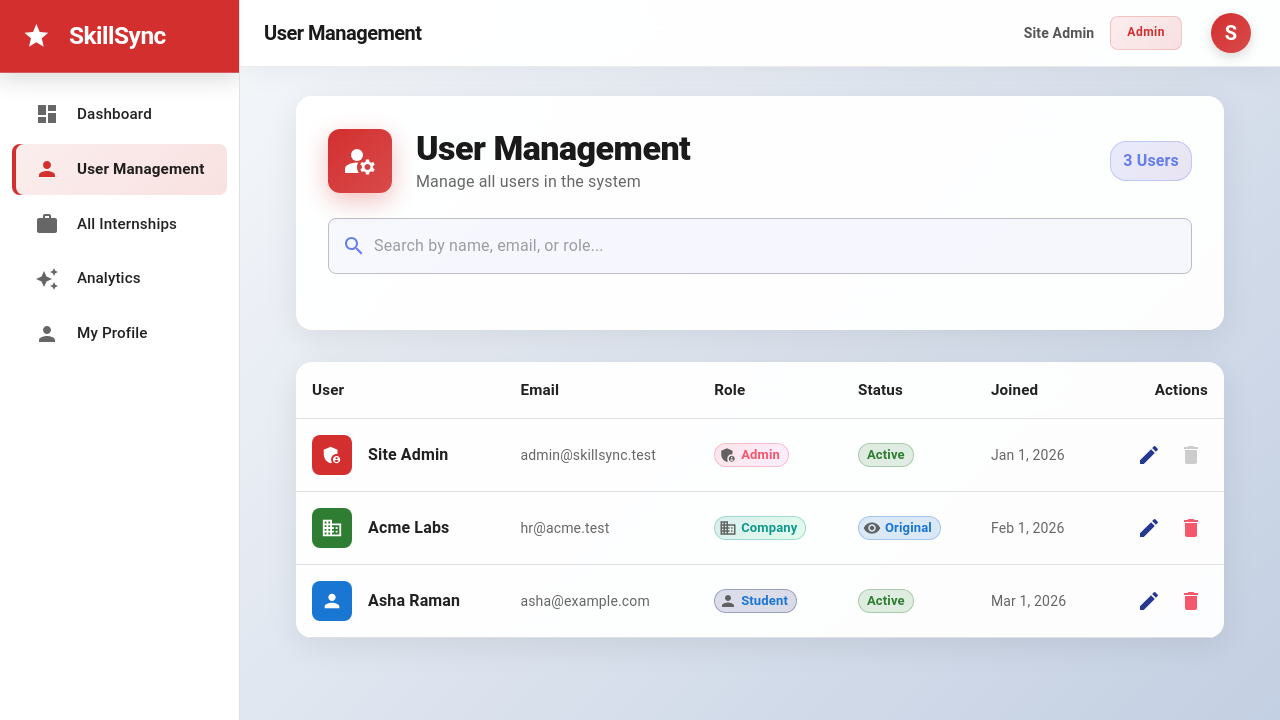
Test: turning on anonymization for a company sends it with the update
Expected: the text "Acme Labs" is shown, x1=368 y1=516 x2=450 y2=540
Click the button named "Edit User" in the row of "Acme Labs".
click(1149, 528)  # box x1=1132 y1=511 x2=1166 y2=545
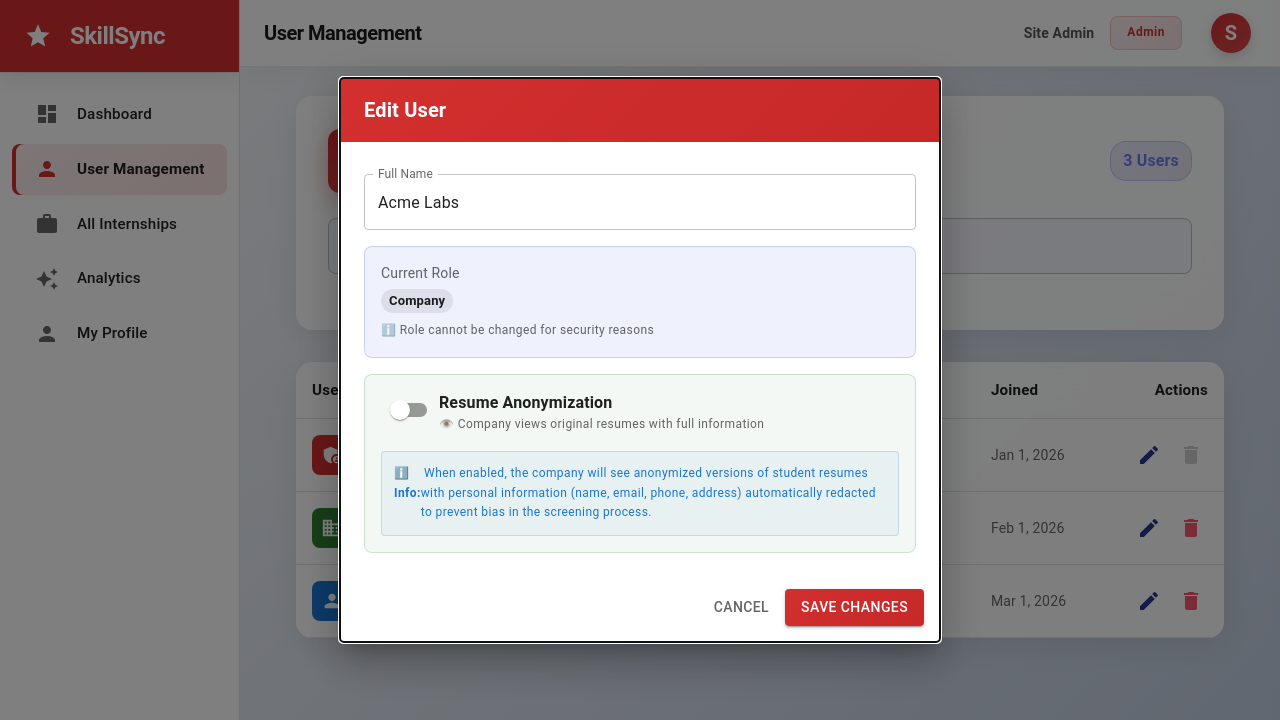
Click the switch.
click(577, 412)  # box x1=390 y1=393 x2=764 y2=431
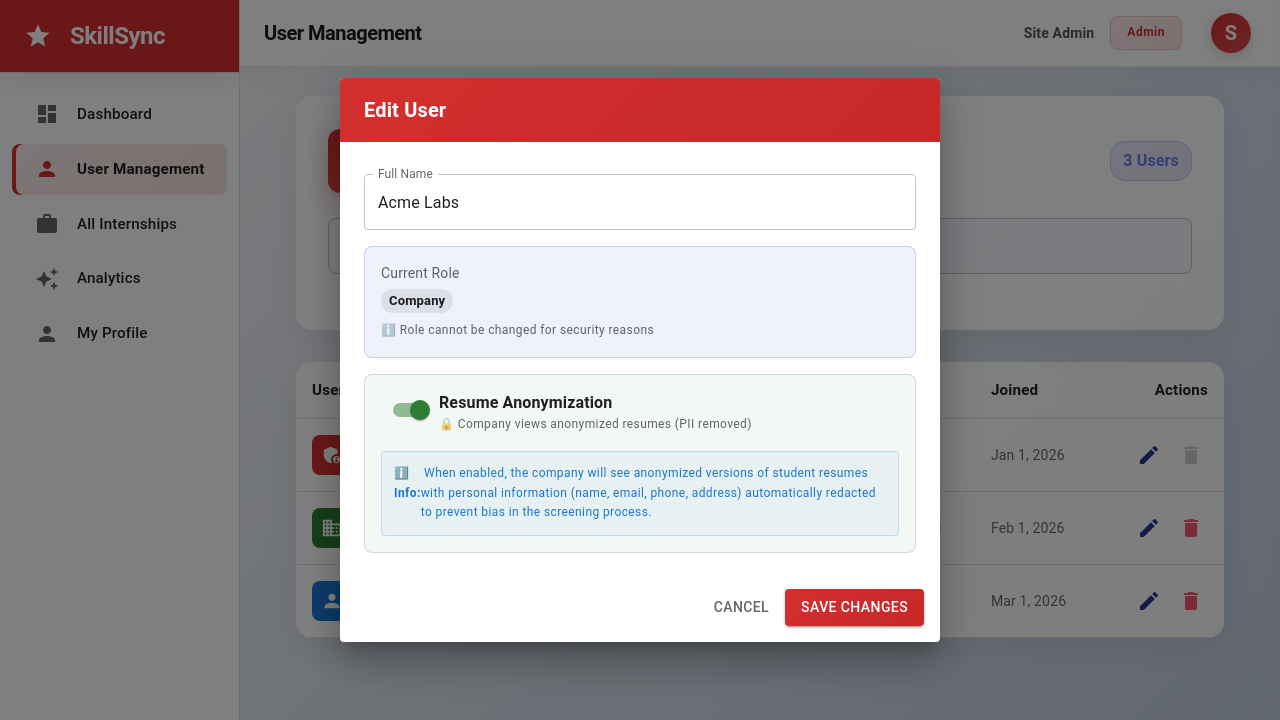
Click the button "Save Changes".
click(855, 608)  # box x1=785 y1=589 x2=924 y2=626
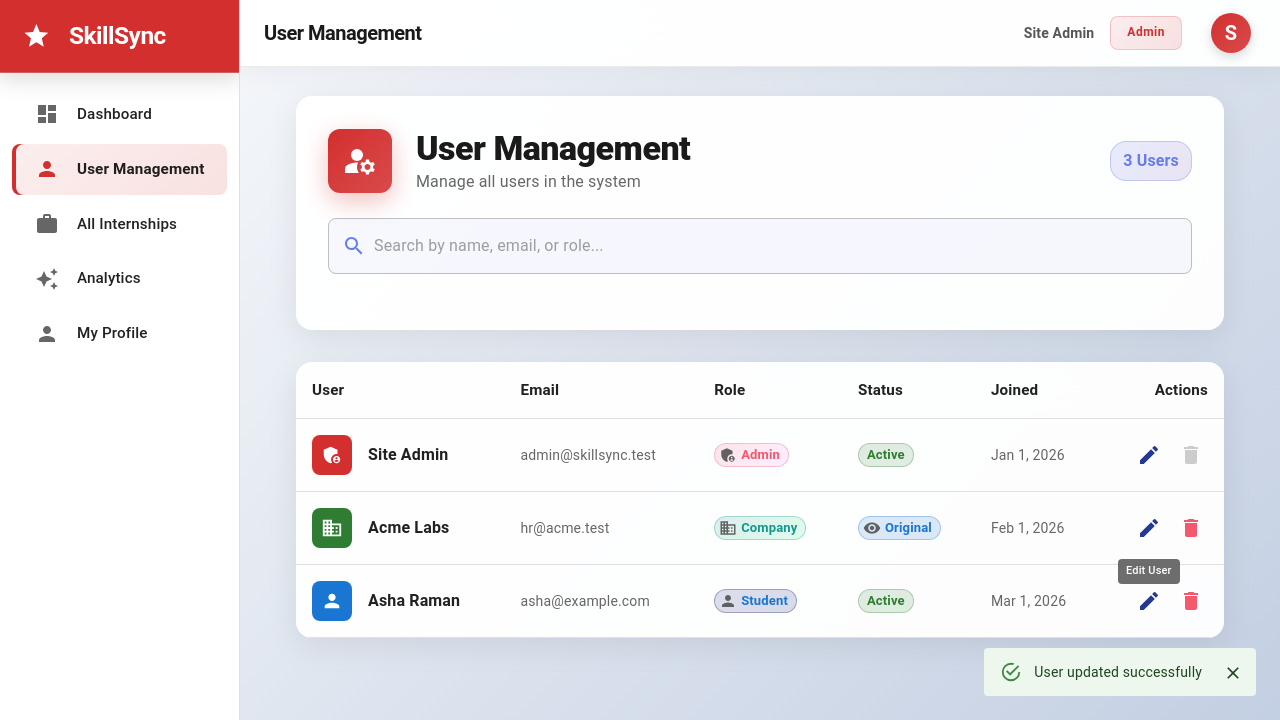
Expected: the text "User updated successfully" is shown, x1=1034 y1=664 x2=1202 y2=680
